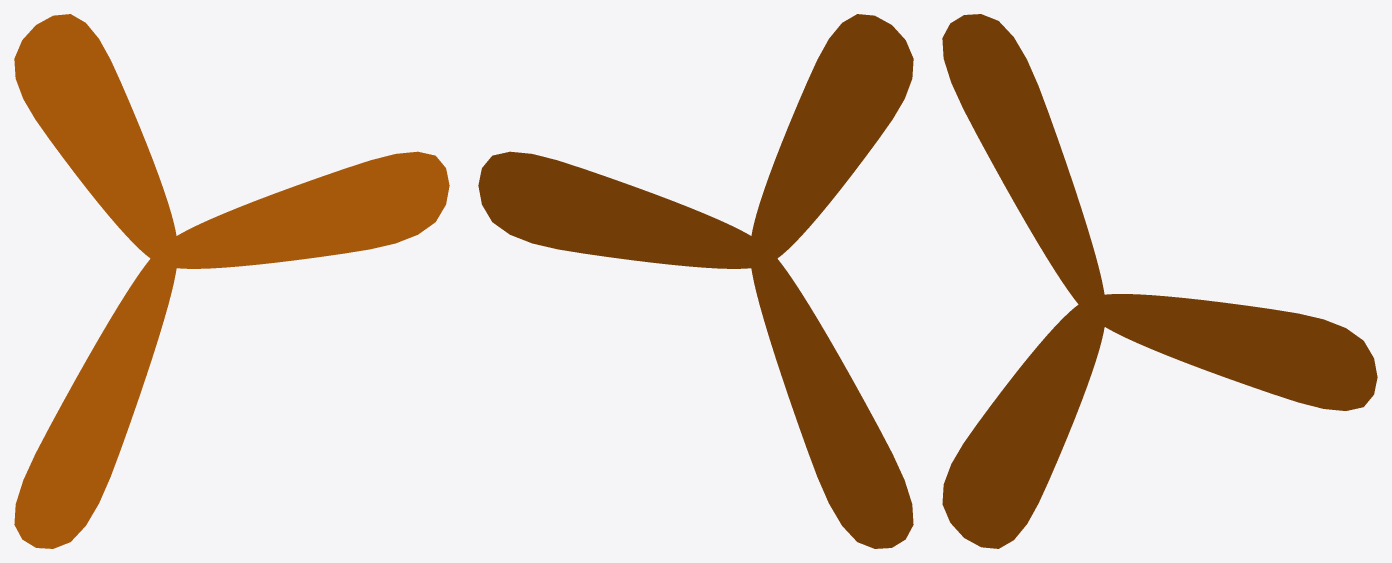
File: fan.fbx
3 views of the same model, side by side, from view 1: azimuth 30°, elevation 25°; view 2: azimuth 150°, elevation 25°; view 3: azimuth 330°, elevation 25° (orthographic).
Parts seen in each view (by area): view 1: 平面.001; view 2: 平面.001; view 3: 平面.001.
Part boxes in pixels (x1,y1,x2,y2): 平面.001: (14,14,449,548); 平面.001: (478,14,913,548); 平面.001: (942,14,1377,548).
Bounding box in the file's own units: 0.000737 × 582 × 681.
